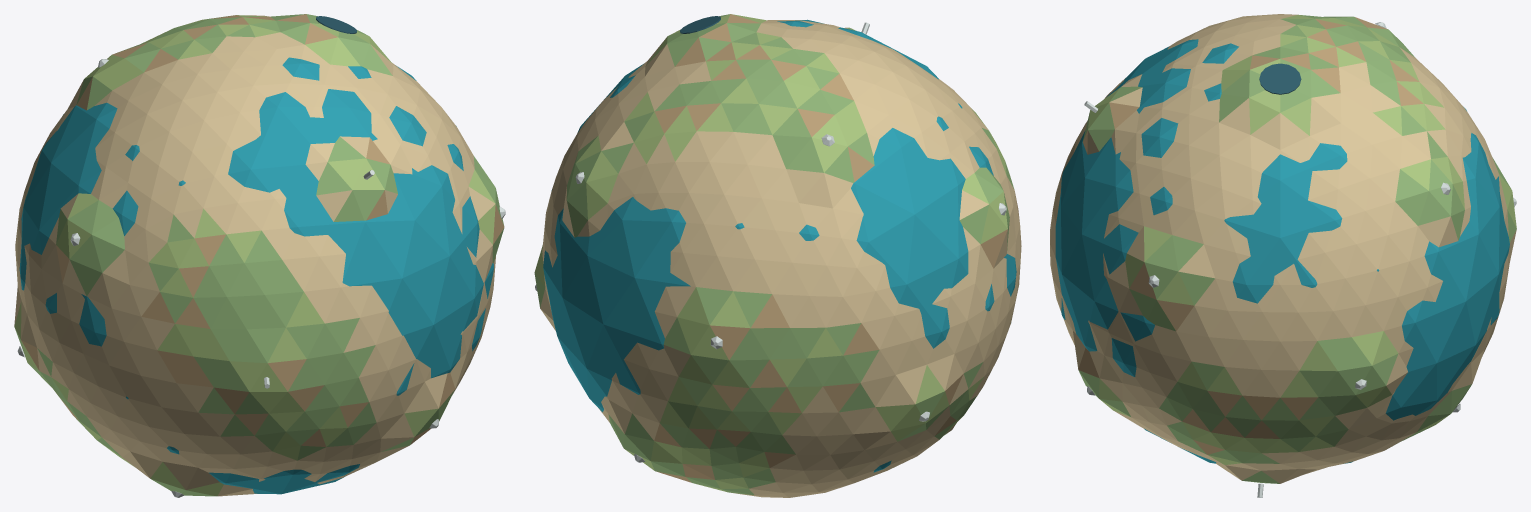
The model's file is uharte_orbit.glb.
3 renders of one model, left to right at view 1: azimuth 30°, elevation 25°; view 2: azimuth 150°, elevation 25°; view 3: azimuth 270°, elevation 25°, orthographic. The views are drawn at different scales.
Visible parts, largest first — view 1: orbit_terrain_0, water_visual.001; view 2: orbit_terrain_0, water_visual.001; view 3: orbit_terrain_0, water_visual.001, Distant_landing_pad.
Part boxes in pixels (bbox=[...]): orbit_terrain_0: bbox=[14, 14, 504, 496]; water_visual.001: bbox=[19, 57, 493, 494]; orbit_terrain_0: bbox=[534, 14, 1021, 497]; water_visual.001: bbox=[543, 19, 1016, 472]; orbit_terrain_0: bbox=[1050, 14, 1516, 483]; water_visual.001: bbox=[1055, 39, 1509, 463]; Distant_landing_pad: bbox=[1259, 63, 1301, 94].
Bounding box in the file's own units: 197 × 202 × 200.
